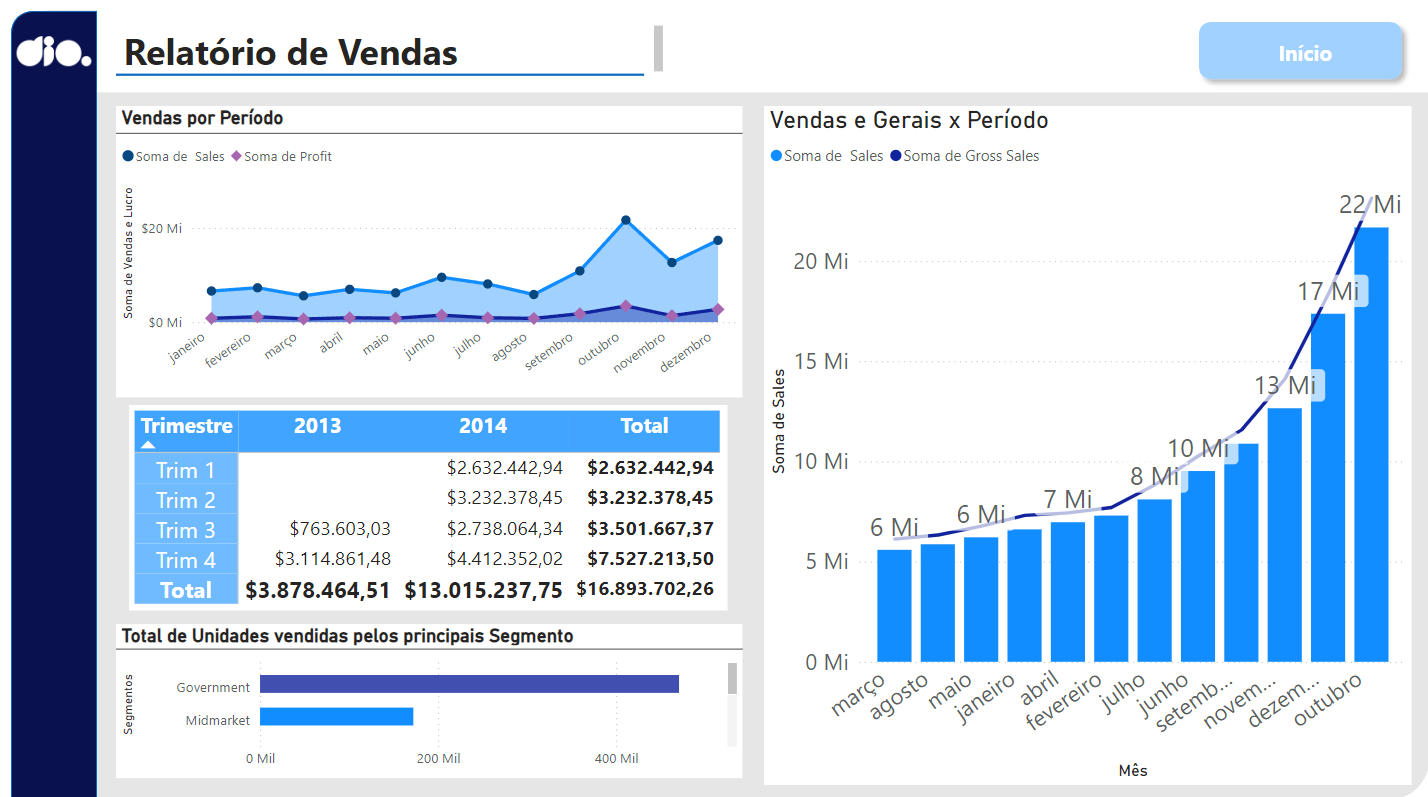

The dashboard page shown, as its layout file describes it:
{"tool":"powerbi","page":{"name":"Relatório","canvas":[1280,720],"ordinal":2},"visuals":[{"type":"group","id":"g1","title":"Layout","box":[10,12.8,1270,707],"z":0},{"type":"shape","box":[10,12.8,1270,707],"z":0,"group":"g1"},{"type":"shape","box":[103.9,51.8,473,37.1],"z":0,"group":"g2"},{"type":"shape","box":[10.1,13.4,77.2,706.3],"z":1000,"group":"g1"},{"type":"textbox","box":[105.8,21.1,492.5,51.9],"z":1000,"group":"g2"},{"type":"lineClusteredColumnComboChart","title":"Vendas e Gerais x Período","fields":{"Category":["financials.Date.Variation.Hierarquia de datas.Mês"],"Y":["Sum(financials. Sales)"],"Y2":["Sum(financials.Gross Sales)"]},"box":[684.2,98.5,580.3,608.1],"z":1000},{"type":"image","title":"logo_dio","box":[10.1,18.4,77.2,62.1],"z":3000,"group":"g1"},{"type":"areaChart","title":"Vendas por Período","fields":{"Category":["financials.Date.Variation.Hierarquia de datas.Trimestre","financials.Date.Variation.Hierarquia de datas.Mês"],"Y":["Sum(financials. Sales)","Sum(financials.Profit)"]},"box":[103.9,98.5,560.6,261.5],"z":3000},{"type":"shape","box":[87,12.8,1193.1,74.1],"z":4000,"group":"g1"},{"type":"group","id":"g2","title":"Sales report","box":[103.9,21.1,494.4,67.8],"z":4000},{"type":"pivotTable","fields":{"Columns":["financials.Date.Variation.Hierarquia de datas.Ano"],"Rows":["financials.Date.Variation.Hierarquia de datas.Trimestre"],"Values":["Sum(financials.Profit)"]},"box":[115.5,366.3,536.4,183.6],"z":4000},{"type":"actionButton","title":"Home Page","box":[1064.7,14.6,199.6,69.2],"z":9000,"group":"g3"},{"type":"textbox","box":[1101,33.7,134.4,34.6],"z":9500,"group":"g3"},{"type":"group","id":"g3","title":"Botão home","box":[1064.7,14.6,199.6,69.2],"z":9501},{"type":"clusteredBarChart","title":"Total de Unidades vendidas pelos principais Segmento","fields":{"Category":["financials.Segment"],"Y":["Sum(financials.Units Sold)"]},"box":[103.9,562.4,560.6,137.9],"z":9502}]}

Visuals, with their boxes in screenshot pixels (x1, y1, x2, y2), scaled from the page's 1280x720 canvas onto the 1428x797 screenshot:
"Layout" group: Rect(11, 14, 1427, 796)
shape: Rect(11, 14, 1427, 796)
shape: Rect(116, 57, 644, 98)
shape: Rect(11, 15, 97, 796)
textbox: Rect(118, 23, 667, 81)
"Vendas e Gerais x Período" lineClusteredColumnComboChart: Rect(763, 109, 1411, 782)
"logo_dio" image: Rect(11, 20, 97, 89)
"Vendas por Período" areaChart: Rect(116, 109, 741, 398)
shape: Rect(97, 14, 1427, 96)
"Sales report" group: Rect(116, 23, 667, 98)
pivotTable - financials.Date.Variation.Hierarquia de datas.Ano x financials.Date.Variation.Hierarquia de datas.Trimestre: Rect(129, 405, 727, 609)
"Home Page" actionButton: Rect(1188, 16, 1410, 93)
textbox: Rect(1228, 37, 1378, 76)
"Botão home" group: Rect(1188, 16, 1410, 93)
"Total de Unidades vendidas pelos principais Segmento" clusteredBarChart: Rect(116, 623, 741, 775)
